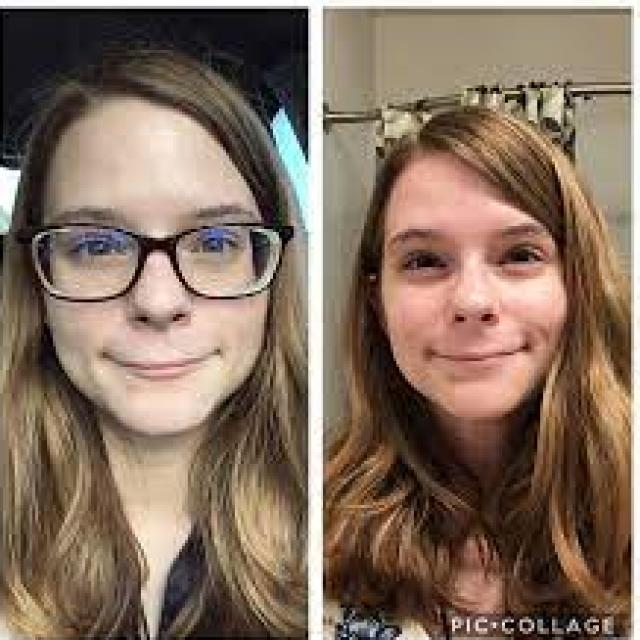Glasses: (12, 218, 297, 310)
